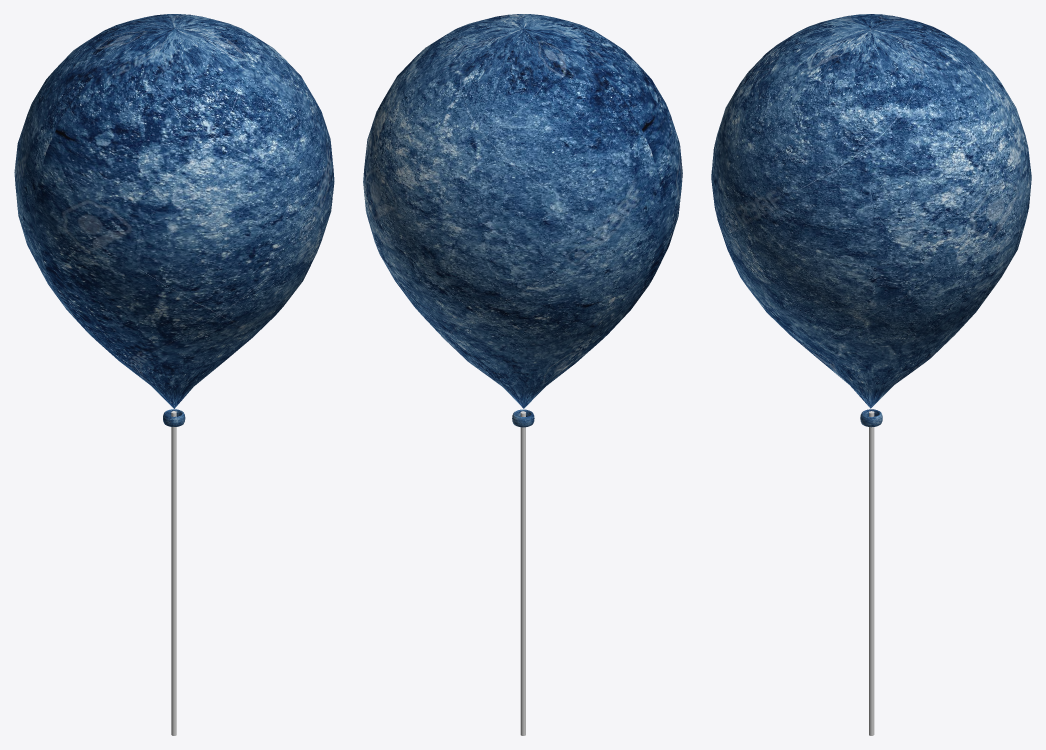
File: balloon_blue_2.glb
3 views of the same model, side by side, from view 1: azimuth 30°, elevation 25°; view 2: azimuth 150°, elevation 25°; view 3: azimuth 270°, elevation 25° (orthographic).
Parts seen in each view (by area): view 1: Sphere.003, Cylinder.003; view 2: Sphere.003, Cylinder.003; view 3: Sphere.003, Cylinder.003.
Part boxes in pixels (x1,y1,x2,y2): Sphere.003: (14, 14, 334, 408); Cylinder.003: (171, 411, 176, 735); Sphere.003: (363, 14, 682, 408); Cylinder.003: (520, 411, 525, 735); Sphere.003: (711, 14, 1031, 408); Cylinder.003: (869, 411, 874, 735).
Bounding box in the file's own units: 2 × 4.86 × 2.
Materials: 2 (2 with a texture image).
